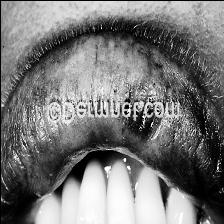Potentially Malignant Skin Tumors: (120, 83, 158, 137)
